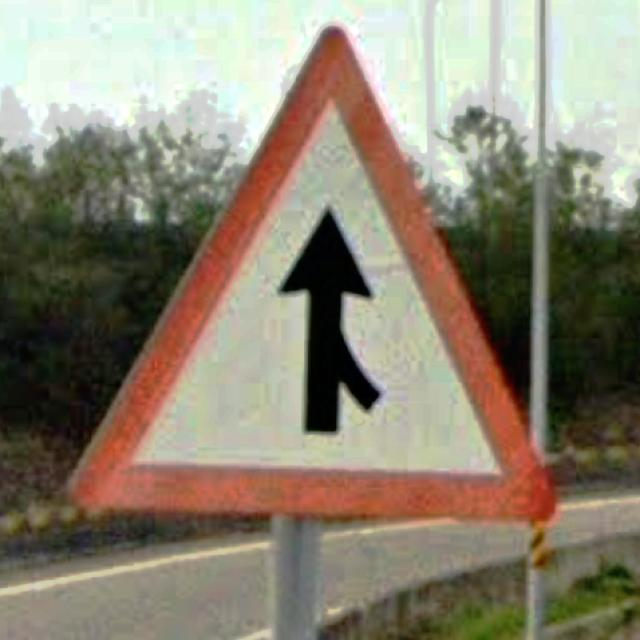rightmerge: (67, 26, 556, 525)
